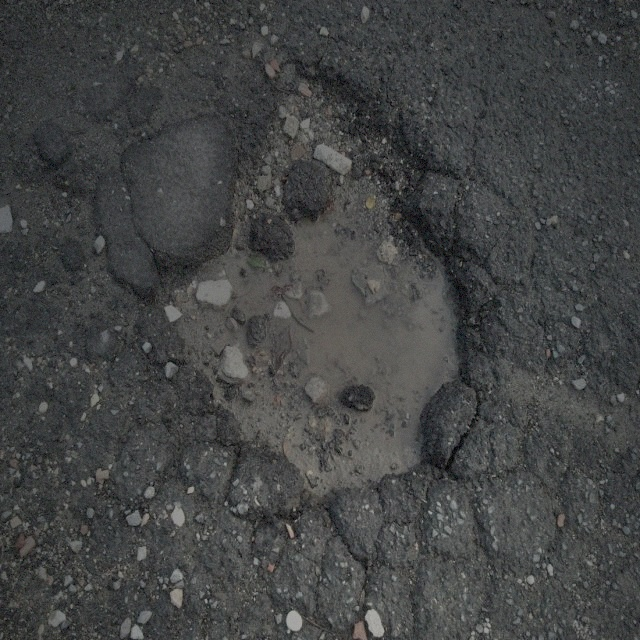pothole: (149, 63, 471, 514)
